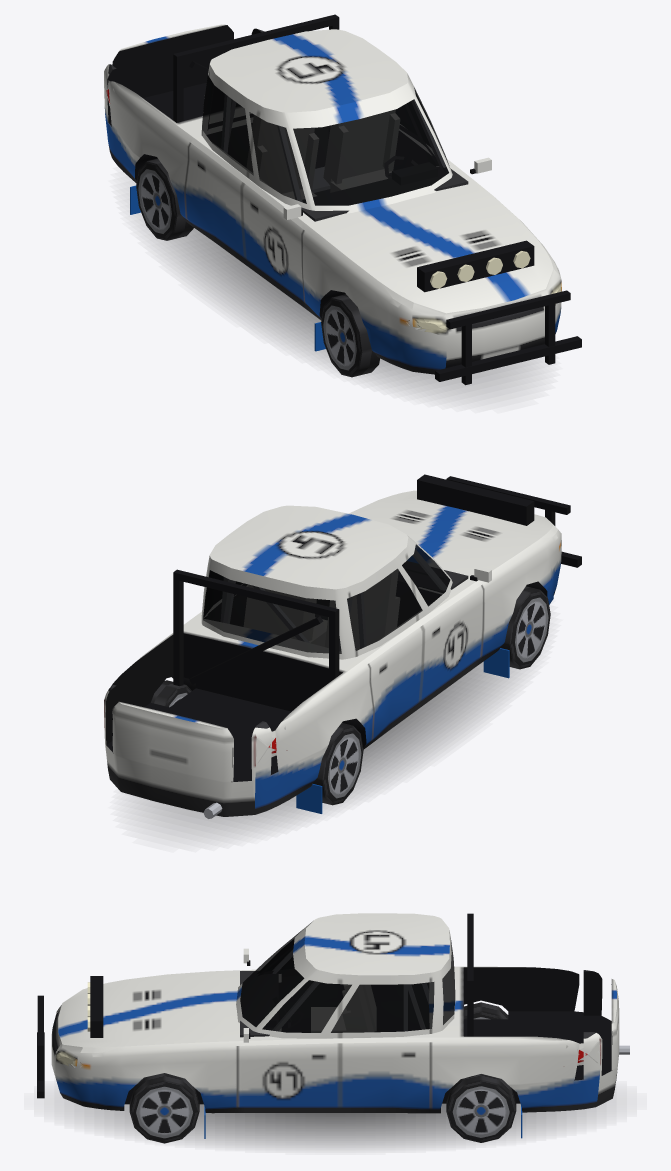
Rendered from granizo.glb.
3 renders of one model, top to bottom at view 1: azimuth 30°, elevation 25°; view 2: azimuth 150°, elevation 25°; view 3: azimuth 270°, elevation 25°, orthographic. The views are drawn at different scales.
Parts seen in each view (by area): view 1: Carroceria, Capo_malha, Interior, Sombra, Porta_D_malha, Porta_TD_malha, Tampa_malha, Roda_DD, Roda_TD, Porta_E_malha; view 2: Carroceria, Capo_malha, Sombra, Porta_TD_malha, Interior, Tampa_malha, Porta_D_malha, Roda_DD, Roda_TD, Roda_TE; view 3: Carroceria, Sombra, Porta_TE_malha, Capo_malha, Porta_E_malha, Interior, Roda_DE, Roda_TE, Tampa_malha, Roda_TD, Porta_D_malha.
Boxes of the visible parts, x1,y1,x2,y2 form: Carroceria: [104, 14, 581, 385]; Capo_malha: [320, 191, 557, 312]; Interior: [207, 86, 468, 221]; Sombra: [152, 228, 533, 396]; Porta_D_malha: [241, 106, 311, 301]; Porta_TD_malha: [184, 66, 260, 256]; Tampa_malha: [112, 24, 233, 97]; Roda_DD: [321, 294, 379, 377]; Roda_TD: [136, 158, 193, 240]; Porta_E_malha: [407, 73, 491, 175]; Carroceria: [104, 476, 581, 818]; Capo_malha: [353, 474, 557, 571]; Sombra: [137, 662, 518, 835]; Porta_TD_malha: [348, 549, 423, 740]; Interior: [207, 549, 468, 650]; Tampa_malha: [112, 701, 233, 782]; Porta_D_malha: [405, 536, 491, 700]; Roda_DD: [500, 586, 550, 669]; Roda_TD: [313, 723, 363, 805]; Roda_TE: [151, 680, 191, 707]; Carroceria: [37, 913, 629, 1138]; Sombra: [64, 1099, 606, 1147]; Porta_TE_malha: [340, 972, 430, 1108]; Capo_malha: [62, 973, 224, 1052]; Porta_E_malha: [237, 969, 340, 1106]; Interior: [137, 947, 428, 1084]; Roda_DE: [129, 1073, 199, 1143]; Roda_TE: [446, 1074, 516, 1142]; Tampa_malha: [611, 979, 619, 1070]; Roda_TD: [464, 1002, 508, 1019]; Porta_D_malha: [243, 940, 293, 972].
Size of the model in its own units: 2.42 by 1.66 by 5.97.
14 materials, 5 textured.
